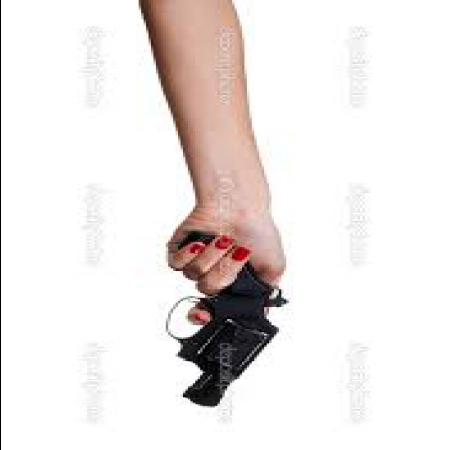Pistol: (165, 230, 295, 406)
